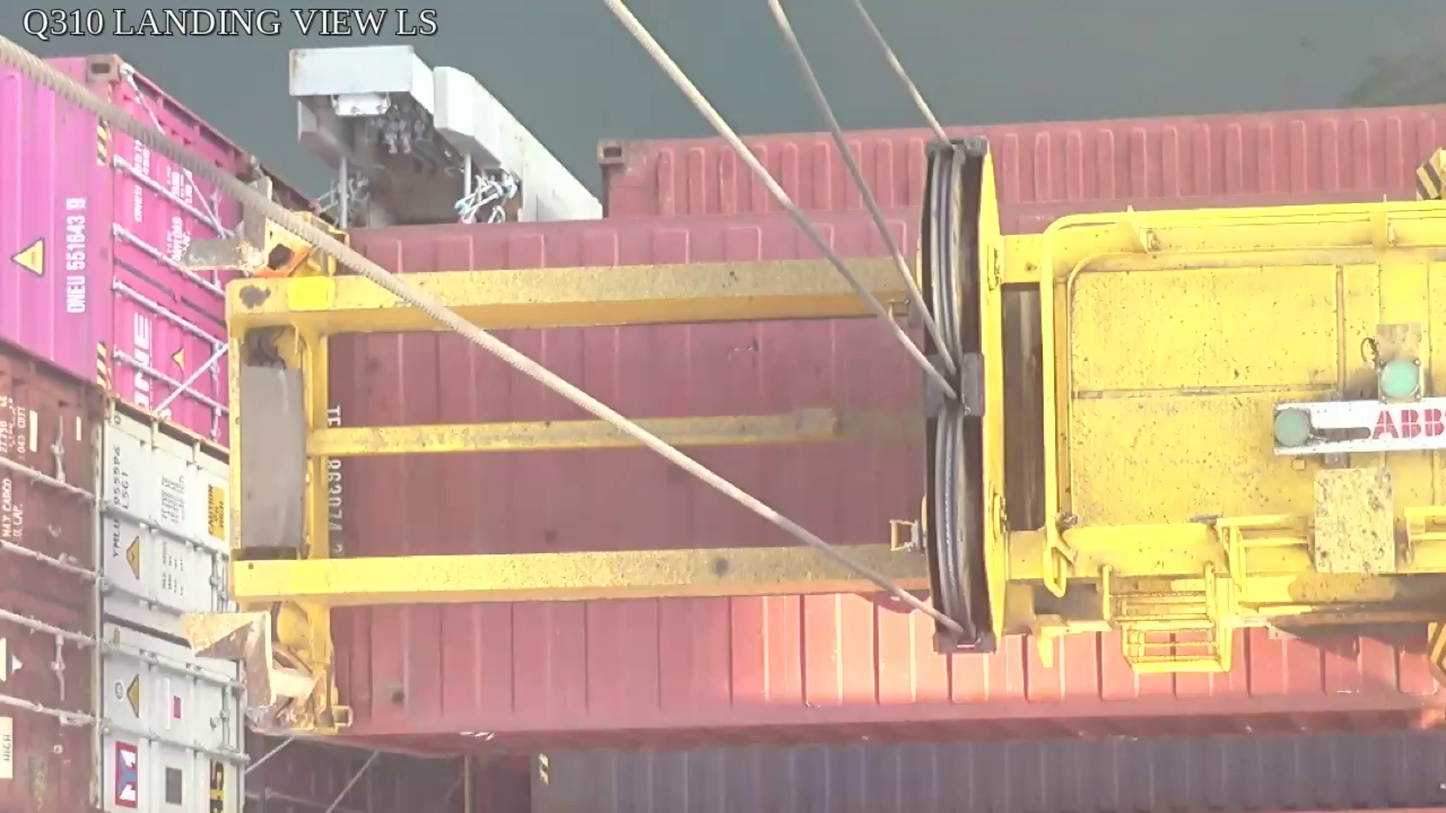aa: (920, 138, 1006, 654)
